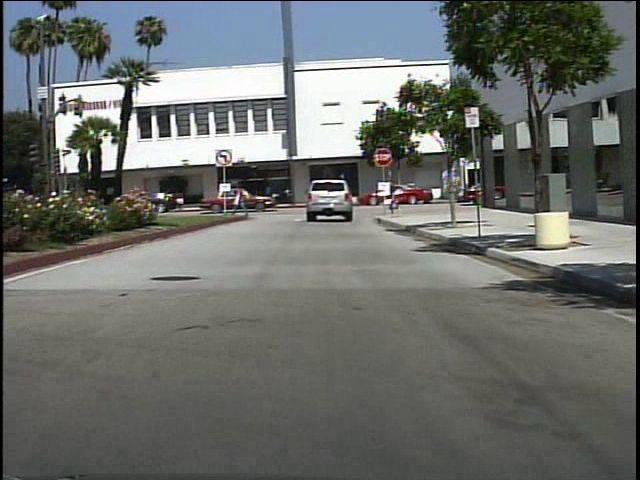person: (232, 179, 254, 221), (387, 175, 404, 215), (272, 181, 273, 207)
